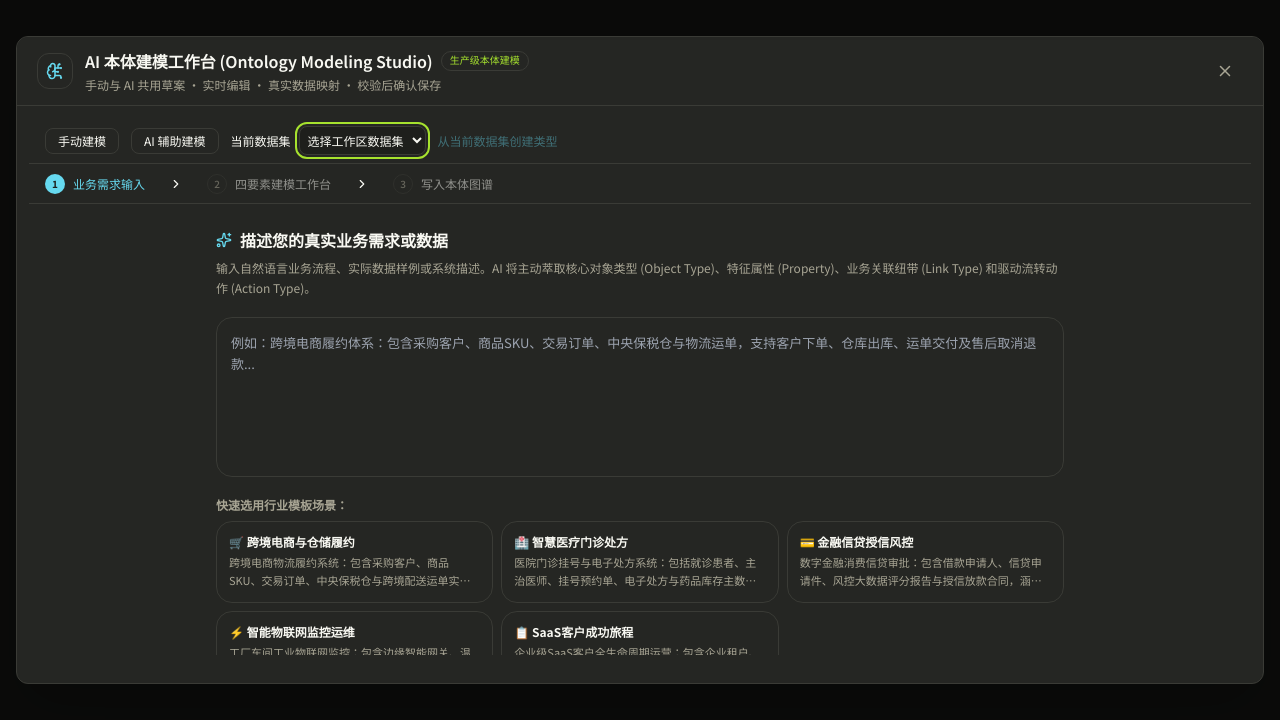
Test case: OntologyModelingWizard — AI Ontology Modeling Workbench › selects preset scenario, runs AI modeling and transitions to interactive workbench
Note: Click on preset scenario
Click the text "🛒 跨境电商与仓储履约" at [292, 541], box [229,533,355,550]
(page scrolled)
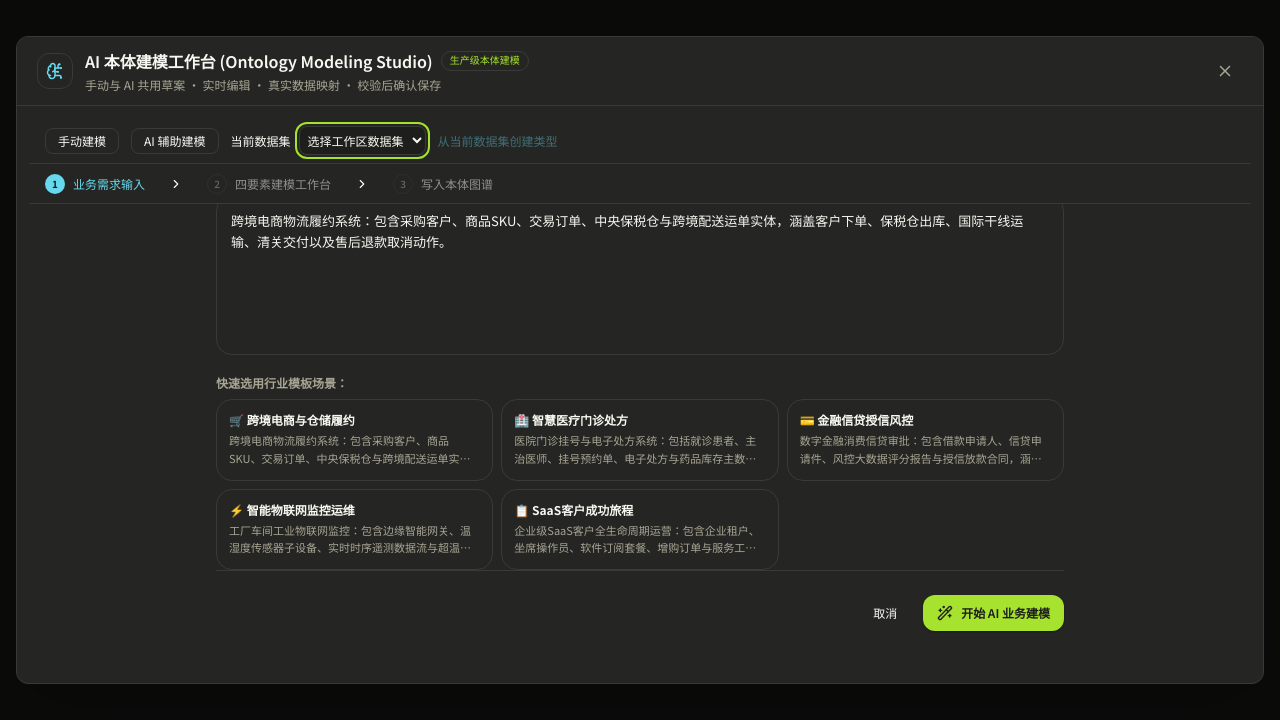
Note: Start modeling
Click the button "开始 AI 业务建模" at [994, 613], box [923,595,1064,631]
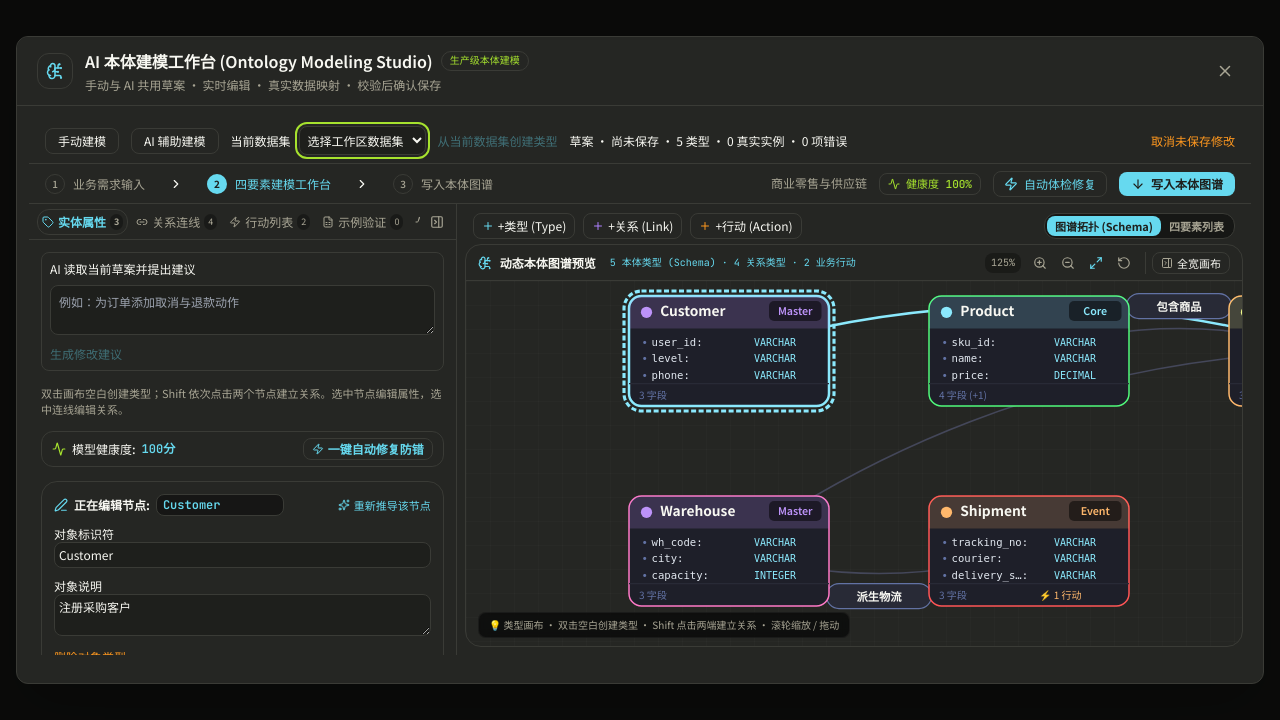
Result: the text "动态本体图谱预览" is shown at [500,254,596,270]
Result: the button "自动体检修复" is shown at [993,170,1107,196]
Result: the button with test id "enter-commit-step-btn" is shown at [1119,172,1235,196]
